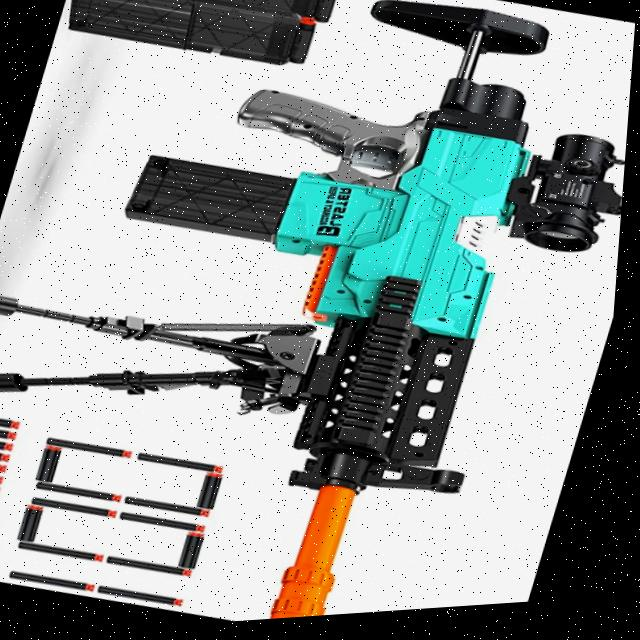firearm: (20, 0, 640, 637)
